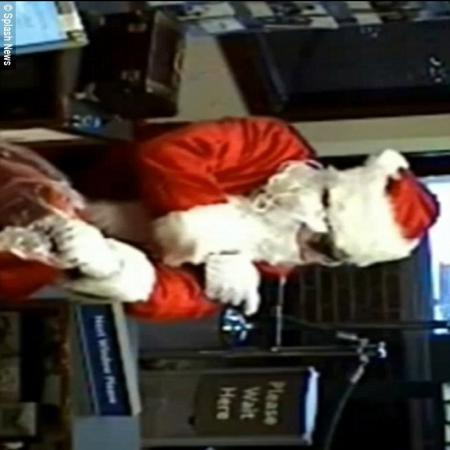Pistol: (210, 266, 292, 344)
